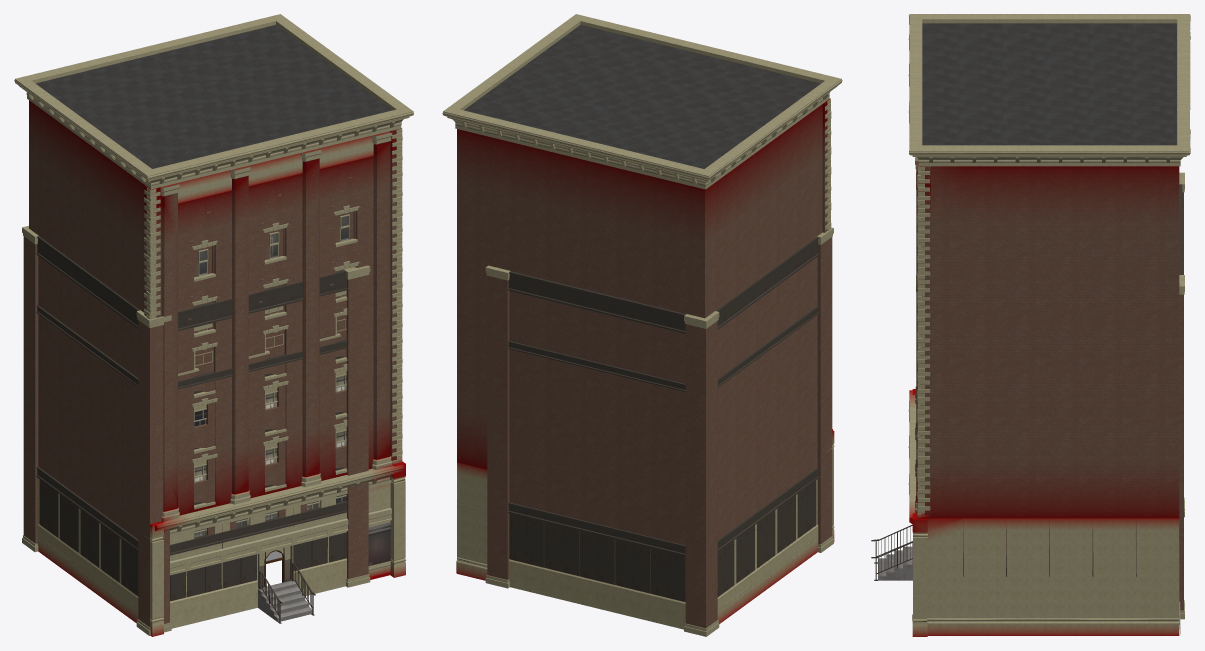
The model's file is theatre-kit.glb.
The picture shows the model from 3 angles, left to right: view 1: azimuth 30°, elevation 25°; view 2: azimuth 150°, elevation 25°; view 3: azimuth 270°, elevation 25°; orthographic projection. The views are drawn at different scales.
Visible parts, largest first — view 1: Building_Medium_2.001, Building_Small_1; view 2: Building_Small_1, Building_Medium_2.001; view 3: Building_Medium_2.001, Building_Small_1.
Boxes of the visible parts, x1,y1,x2,y2 form: Building_Medium_2.001: [14, 14, 413, 636]; Building_Small_1: [22, 225, 370, 635]; Building_Small_1: [485, 227, 833, 636]; Building_Medium_2.001: [442, 14, 842, 623]; Building_Medium_2.001: [908, 14, 1190, 636]; Building_Small_1: [871, 172, 1184, 619].
Size of the model in its own units: 15.06 by 25.01 by 14.79.
9 materials, 8 textured.
